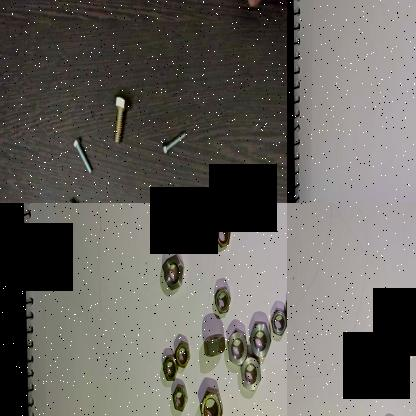Bolts: (110, 86, 132, 146), (70, 134, 96, 176), (159, 130, 191, 156), (67, 192, 91, 203)
NUTS: (161, 250, 187, 293), (378, 343, 402, 386), (240, 352, 263, 394), (250, 316, 271, 362), (226, 328, 247, 366), (213, 216, 234, 250), (199, 390, 224, 416), (268, 304, 287, 338), (213, 286, 234, 316), (201, 333, 227, 357), (174, 338, 192, 372), (160, 352, 180, 382), (171, 382, 189, 414)
